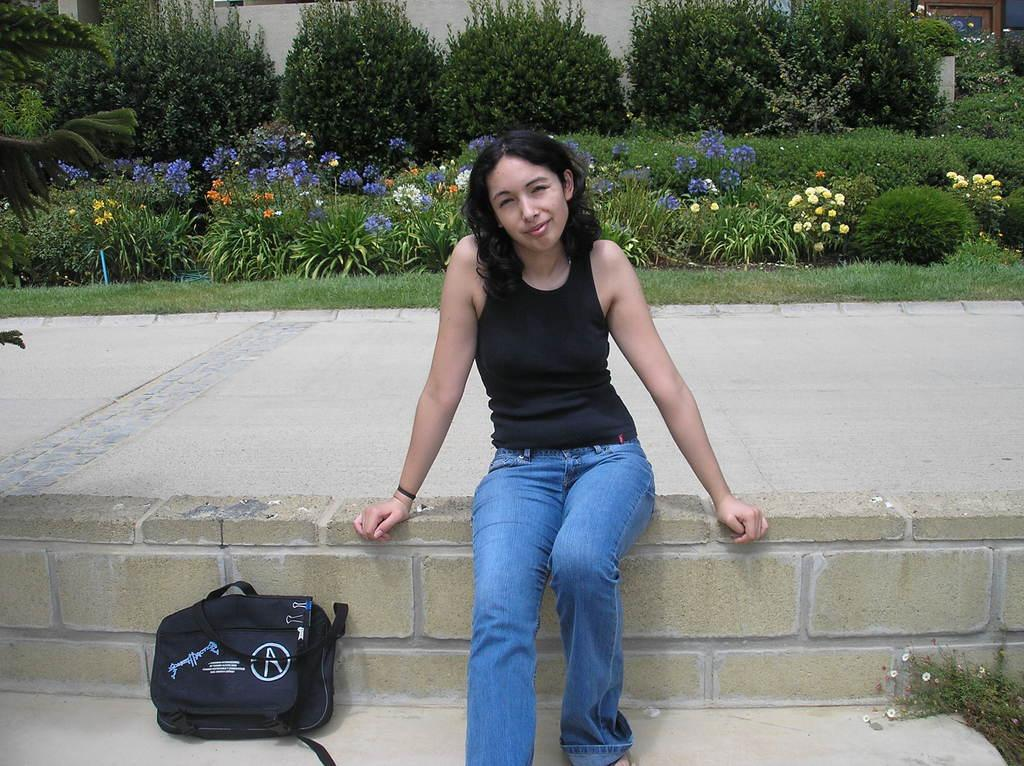Luggage-and-bags: (141, 585, 356, 749)
